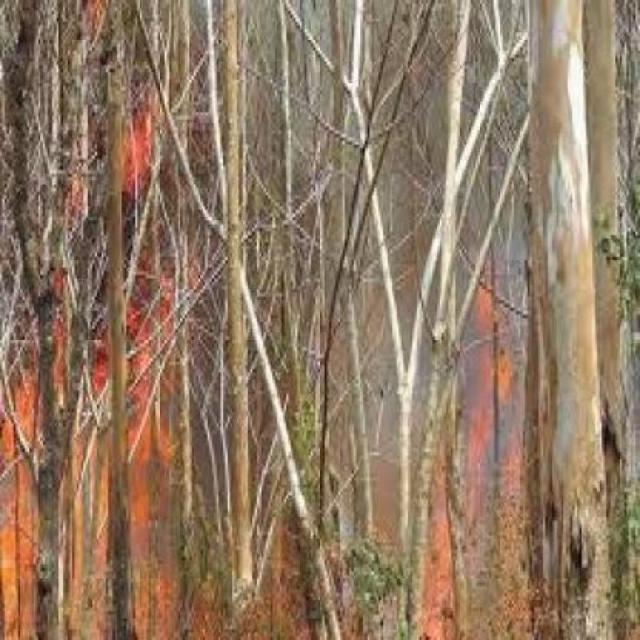Fire: (0, 105, 205, 640), (398, 317, 552, 640)
